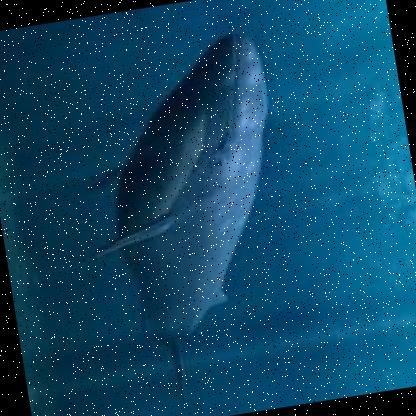blue_whale: (1, 20, 353, 411)
